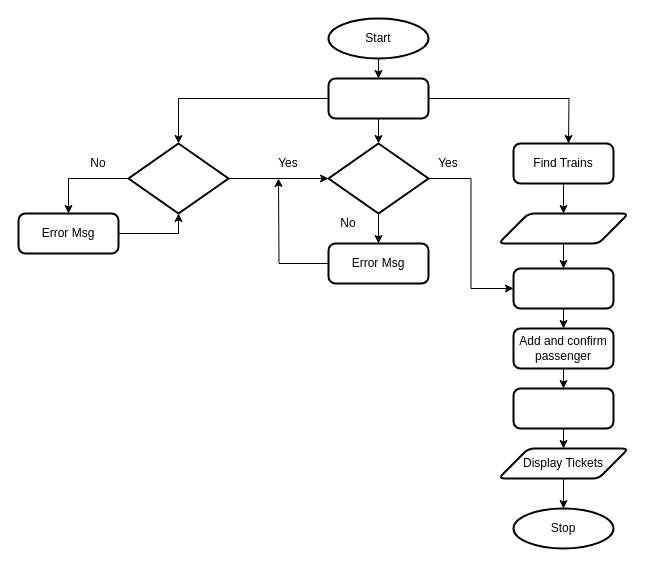
Some shapes in this 646 by 566 pixel diagram are drawn without their labels. The centre of each missing label's shape, as x and y in pixels:
"Book Ticket" goes at (x=563, y=408).
"Display Trains" goes at (x=563, y=228).
"Login" goes at (x=378, y=178).
"Register" goes at (x=178, y=178).
"Select and book" goes at (x=563, y=288).
"Welcome" goes at (x=378, y=98).
